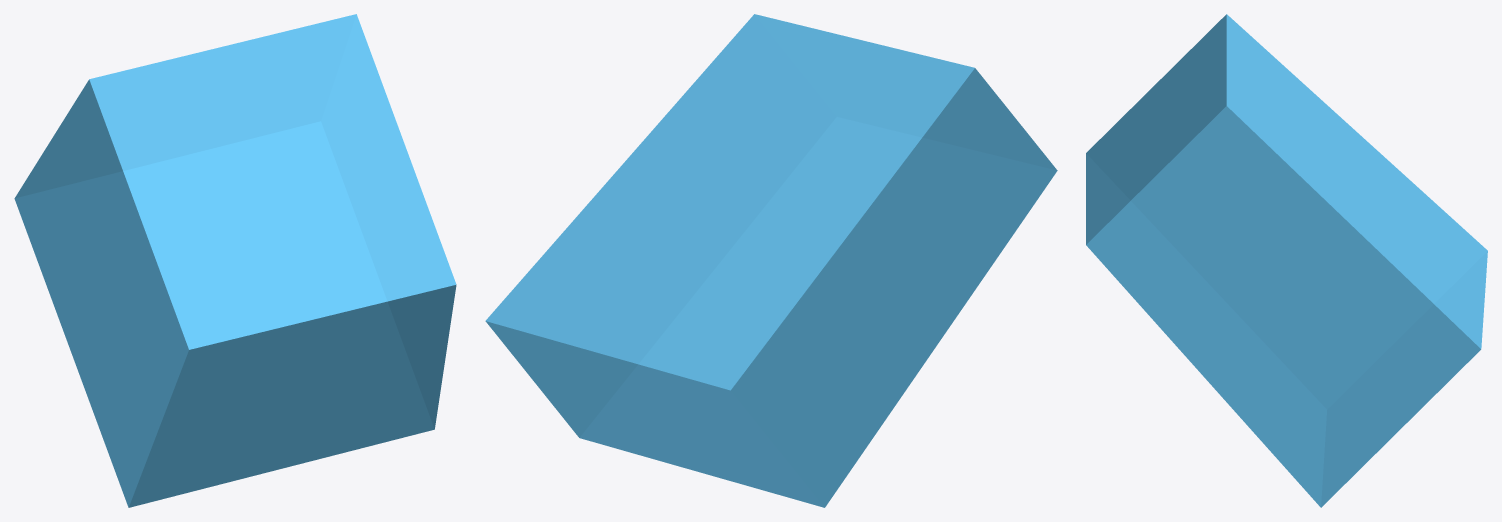
Rendered from Event_421115418_HBrechit_24.fbx.
The picture shows the model from 3 angles, left to right: view 1: azimuth 30°, elevation 25°; view 2: azimuth 150°, elevation 25°; view 3: azimuth 270°, elevation 25°; orthographic projection. The views are drawn at different scales.
Visible parts, largest first — view 1: Model; view 2: Model; view 3: Model.
Part boxes in pixels (x1,y1,x2,y2): Model: (14,14,456,507); Model: (485,14,1057,507); Model: (1086,14,1487,507).
Size of the model in its own units: 0.6471 by 0.7612 by 0.7752.
